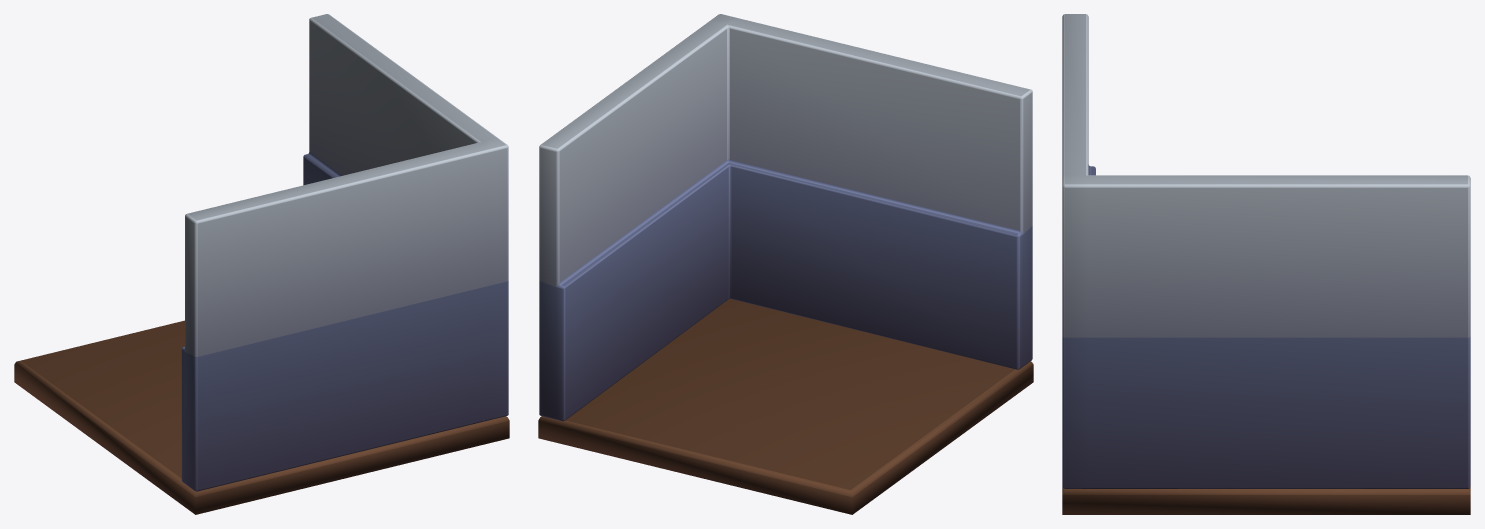
Rendered from wall-angle.fbx.
The picture shows the model from 3 angles, left to right: view 1: azimuth 30°, elevation 25°; view 2: azimuth 150°, elevation 25°; view 3: azimuth 270°, elevation 25°; orthographic projection. The views are drawn at different scales.
Parts seen in each view (by area): view 1: wall-angle; view 2: wall-angle; view 3: wall-angle.
Boxes of the visible parts, box(x1,y1,x2,y2) form: wall-angle: box(14, 14, 509, 514); wall-angle: box(538, 14, 1033, 514); wall-angle: box(1062, 14, 1470, 514).
Bounding box in the file's own units: 1000 × 891 × 1000.
